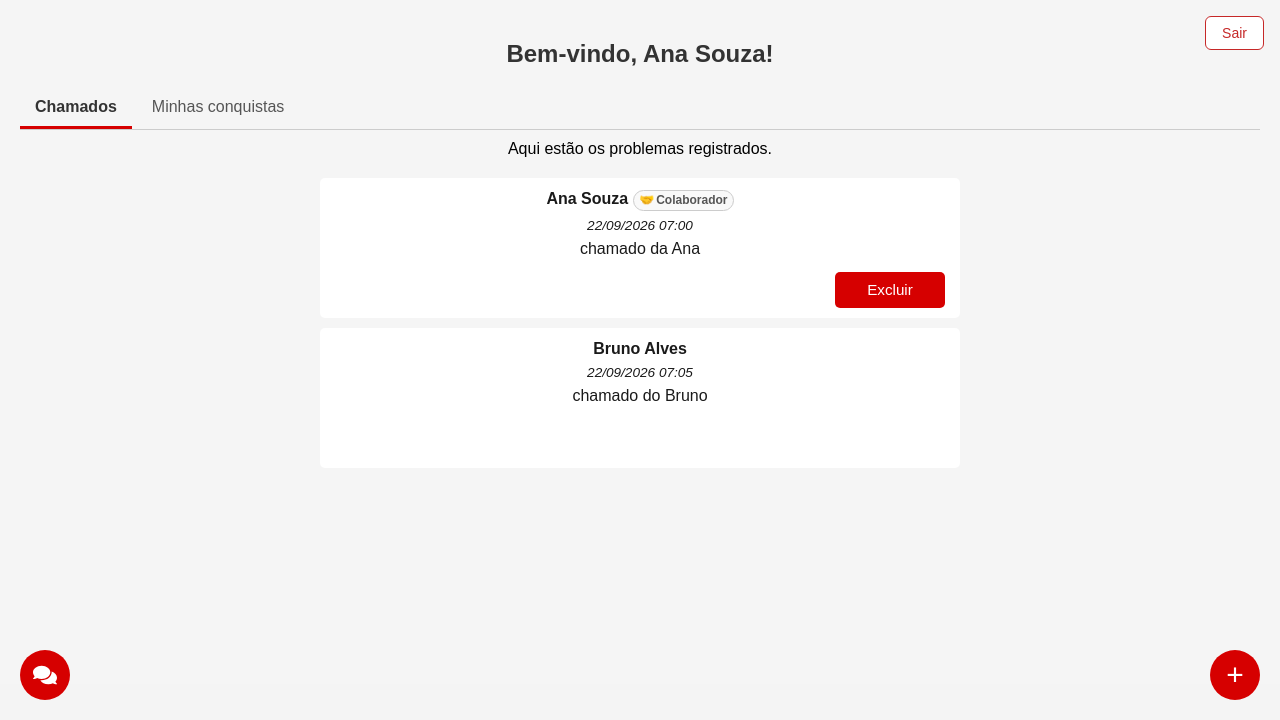
Test: o chat sem insígnias (AC-PERK-05, revisto na v1.1.0) › não põe insígnia nas mensagens do chat, nem de quem tem perk
The image size is (1280, 720).
Click the button named "Abrir o chat".
click(45, 675)  # box [20, 650, 70, 700]
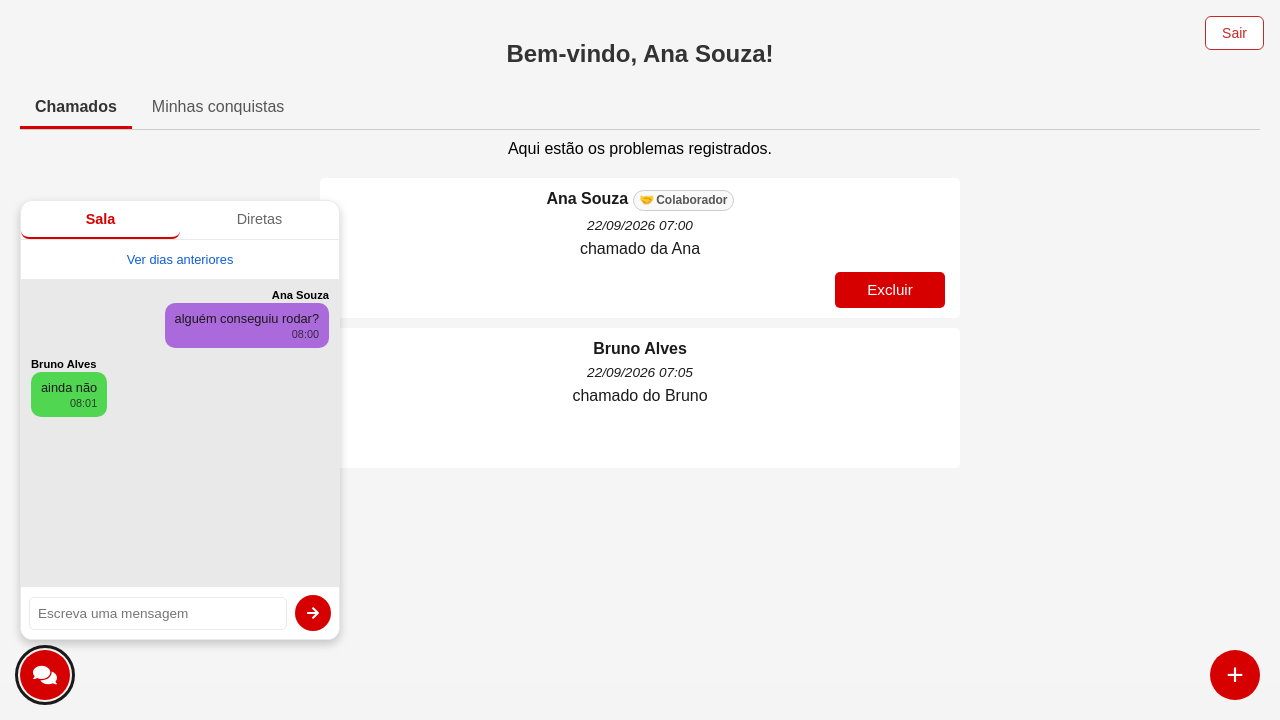
Expected: the text "alguém conseguiu rodar?" is shown, [175, 311, 319, 326]
